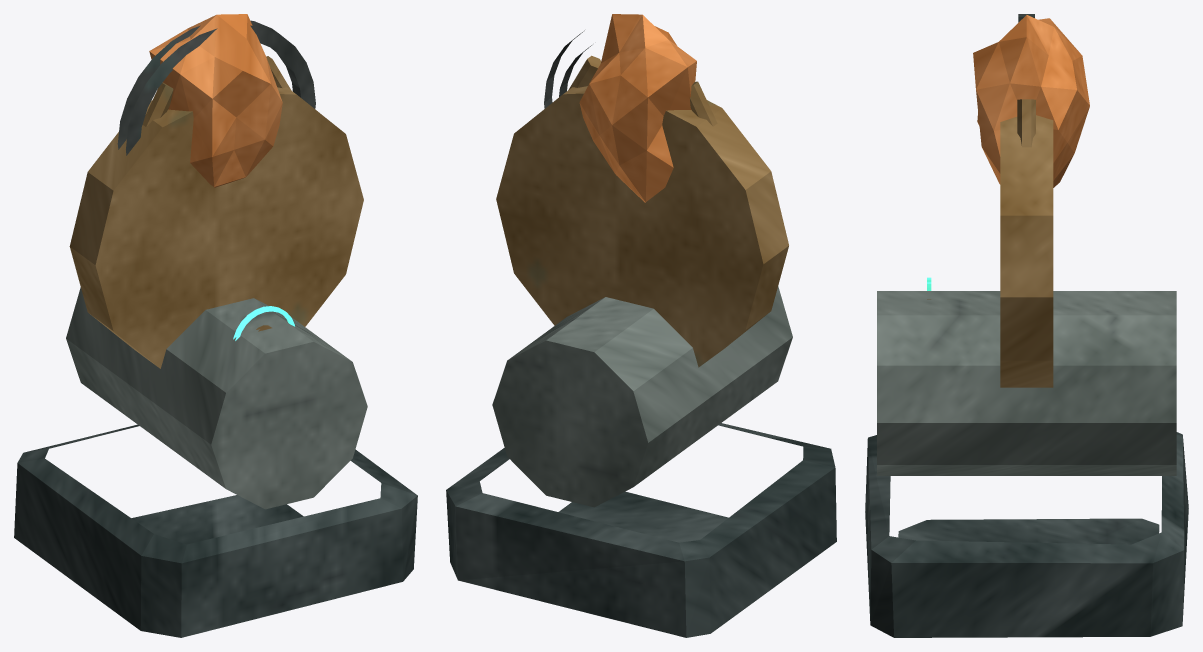
Rendered from 0584_relic_pedestal_09.glb.
3 views of the same model, side by side, from view 1: azimuth 30°, elevation 25°; view 2: azimuth 150°, elevation 25°; view 3: azimuth 270°, elevation 25° (orthographic). The views are drawn at different scales.
Parts seen in each view (by area): view 1: brass, stone_dark, stone, amber, iron; view 2: brass, stone_dark, stone, amber, iron; view 3: stone, stone_dark, brass, amber.
Boxes of the visible parts, x1,y1,x2,y2 form: brass: [69, 56, 363, 368]; stone_dark: [14, 424, 417, 637]; stone: [66, 287, 367, 509]; amber: [149, 14, 282, 187]; iron: [117, 20, 315, 155]; brass: [496, 55, 788, 367]; stone_dark: [446, 423, 836, 637]; stone: [492, 286, 792, 507]; amber: [579, 14, 696, 202]; iron: [544, 30, 591, 108]; stone: [877, 291, 1176, 475]; stone_dark: [865, 432, 1188, 637]; brass: [927, 99, 1053, 387]; amber: [973, 15, 1089, 187].
Bounding box in the file's own units: 0.9714 × 1.87 × 0.9724.
Materials: 6 (6 with a texture image).
